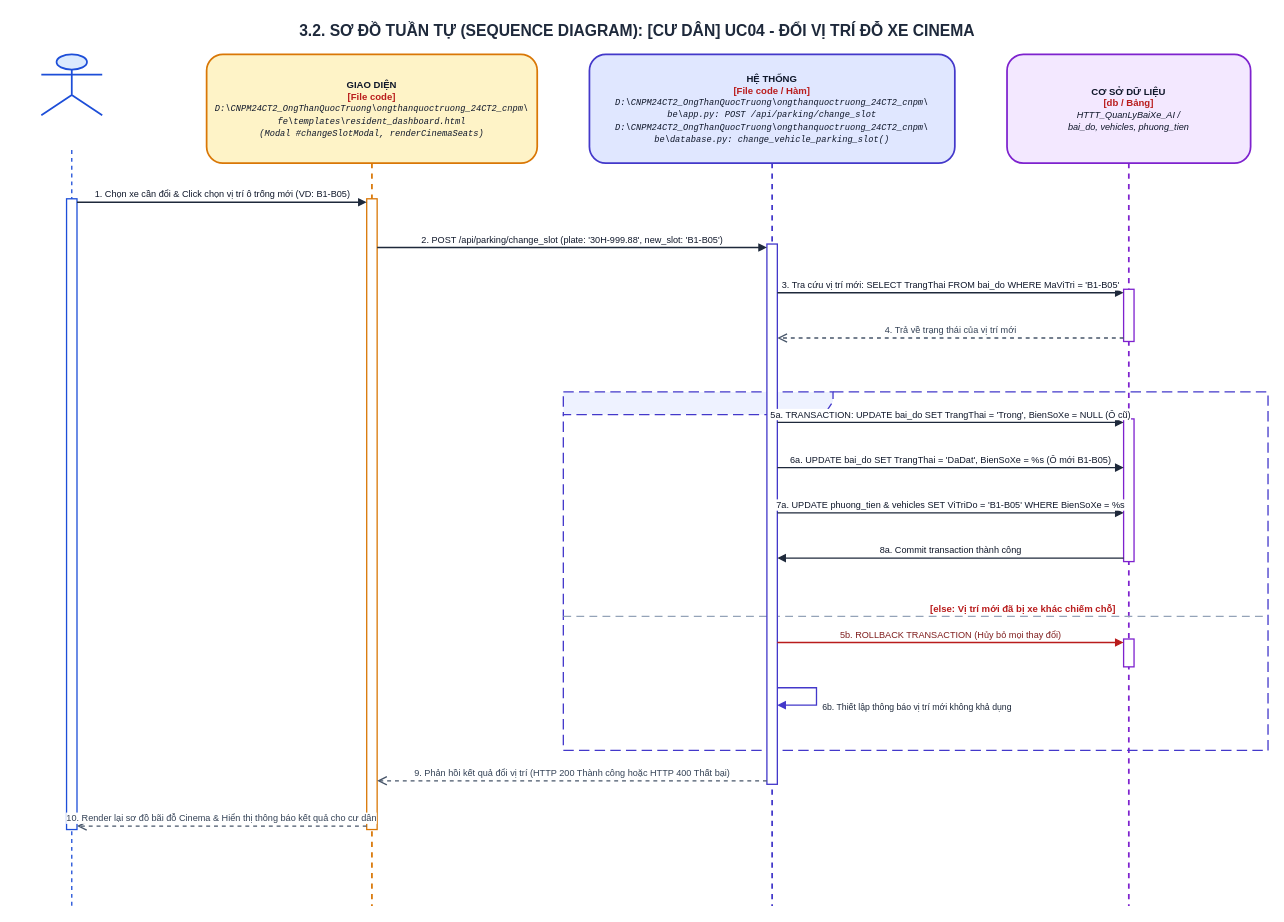
This 1284x922 diagram has some shape labels left out. The box of each missing label's shape, as (x1, y1, x2, y2) in pixels:
alt [Vị trí mới còn TRỐNG (TrangThai == 'Trong')]: (562, 391, 1268, 751)
TÁC NHÂN Cư Dân (Resident): (40, 53, 103, 116)
